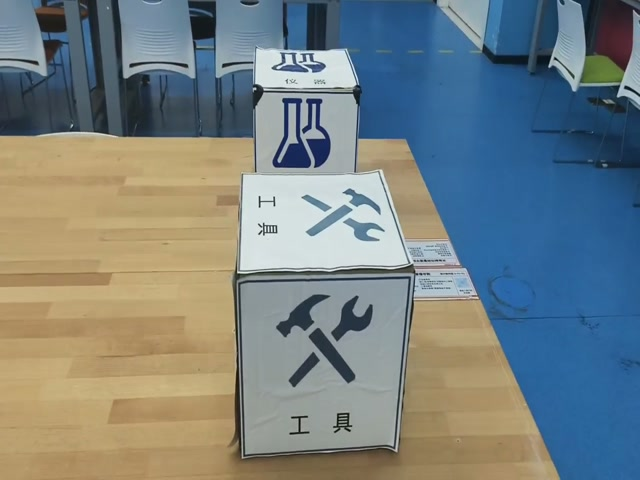Cube_ins: (253, 48, 360, 92)
Cube_tool: (236, 171, 412, 276)
